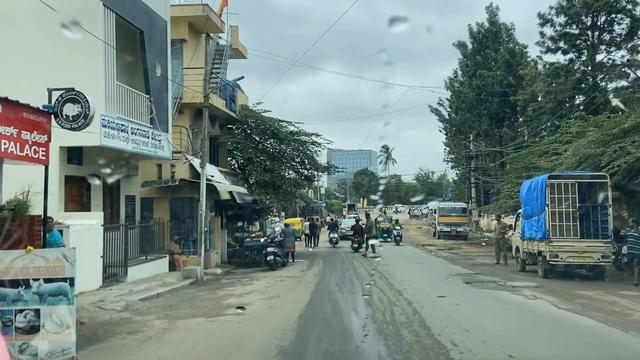RoadDamages: (459, 267, 534, 306), (181, 291, 253, 330)
